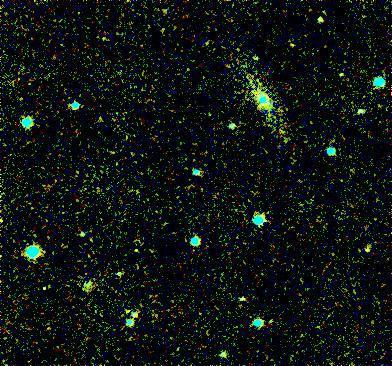star: (112, 296, 142, 326)
